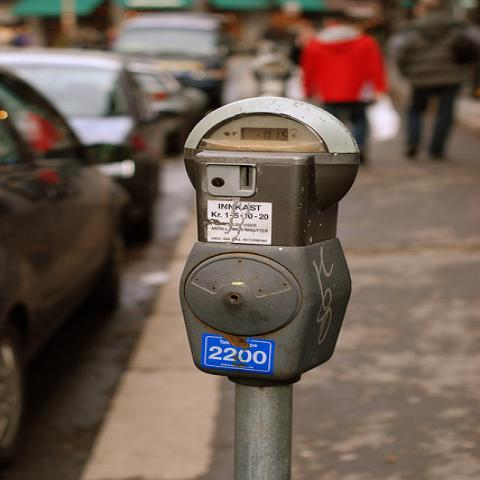car: (0, 67, 169, 446), (0, 49, 166, 157), (108, 16, 234, 106), (124, 60, 210, 158)
